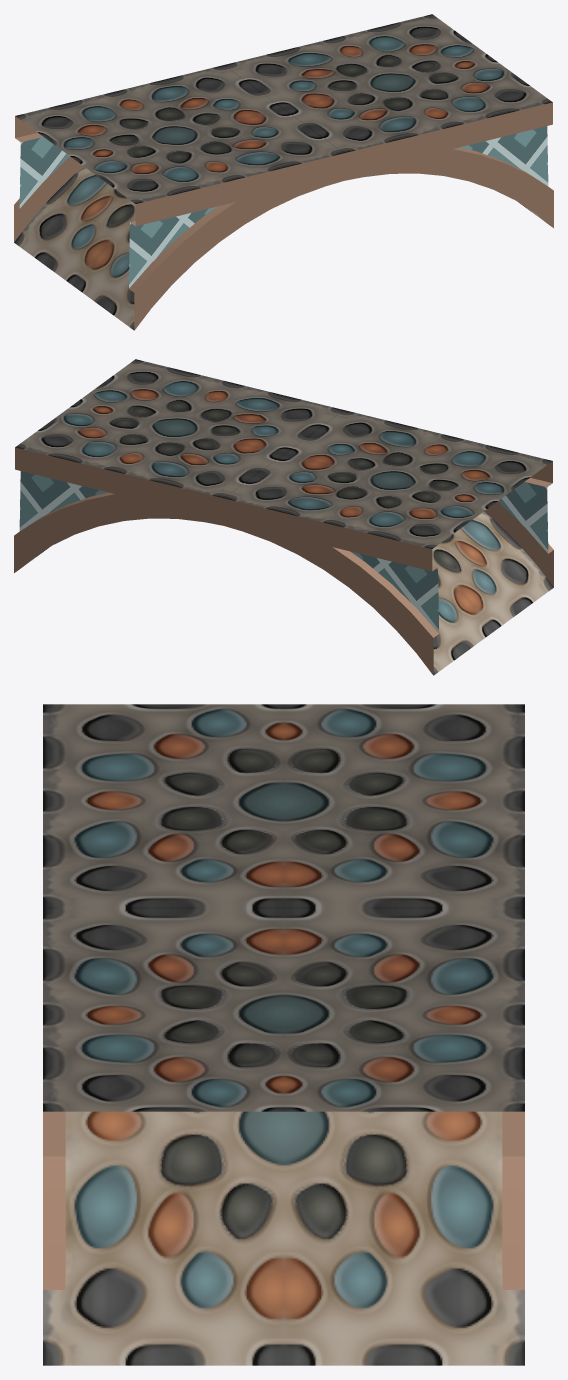
Rendered from DI_005_008_entrance.glb.
3 renders of one model, top to bottom at view 1: azimuth 30°, elevation 25°; view 2: azimuth 150°, elevation 25°; view 3: azimuth 270°, elevation 25°, orthographic. The views are drawn at different scales.
Visible parts, largest first — view 1: Entrance.001; view 2: Entrance.001; view 3: Entrance.001.
Boxes of the visible parts, bbox=[...] form: Entrance.001: bbox=[14, 14, 553, 330]; Entrance.001: bbox=[14, 359, 553, 675]; Entrance.001: bbox=[43, 704, 524, 1365].
Bounding box in the file's own units: 1.51 × 0.4341 × 0.75.
3 materials, 2 textured.
